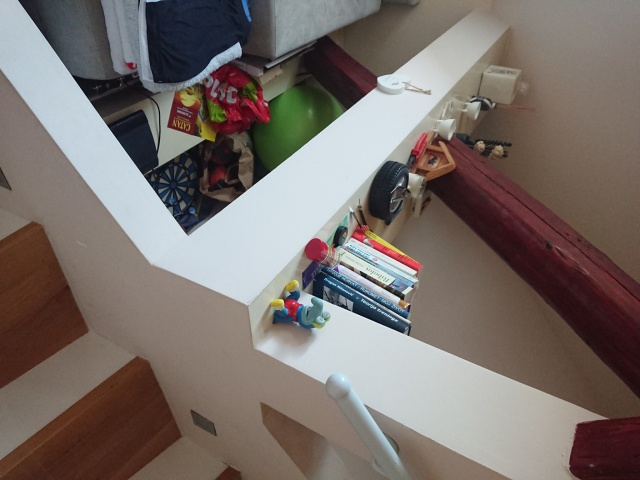Kotanyi Curry Spices Mix 70g: (303, 236, 342, 270)
